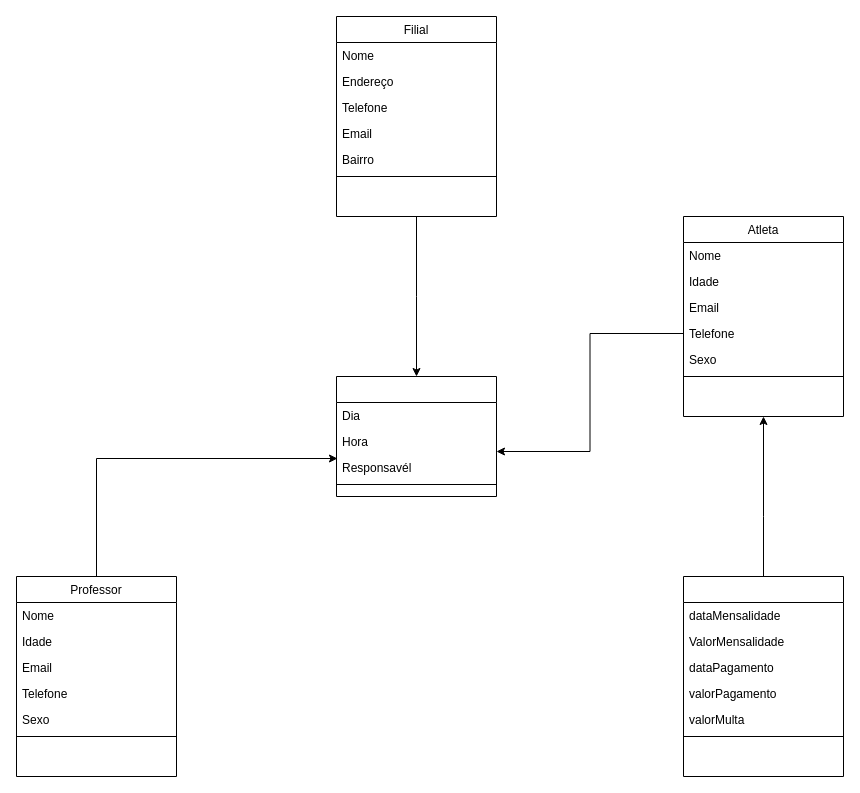
Some shapes in this 860 by 793 pixel diagram are drawn without their labels. The box of each missing label's shape, as (x1, y1, x2, y2) in pixels:
Aula: (336, 376, 496, 496)
Mensalidade(API): (682, 576, 844, 776)
